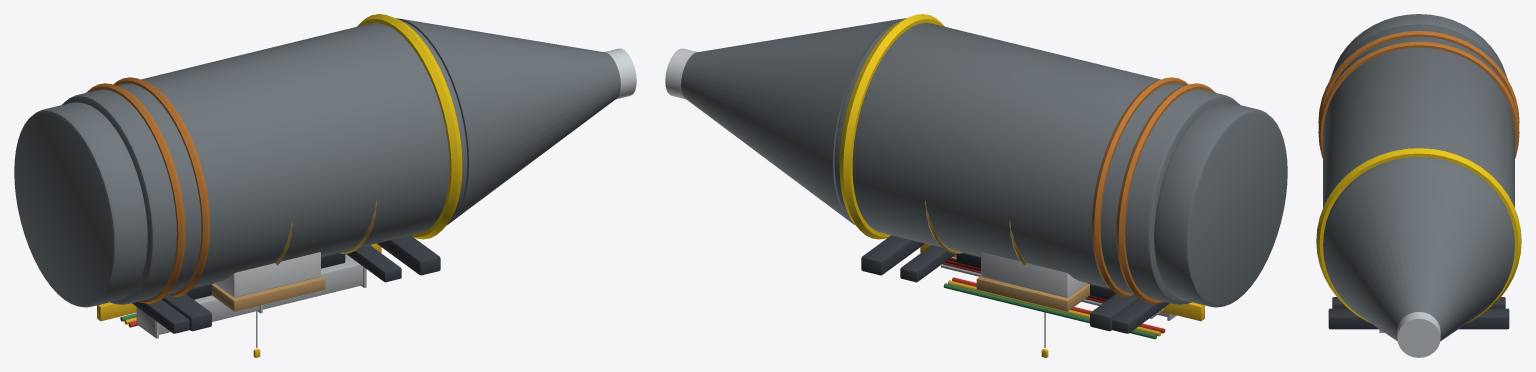
The model's file is equip.glb.
The picture shows the model from 3 angles, left to right: view 1: azimuth 30°, elevation 25°; view 2: azimuth 150°, elevation 25°; view 3: azimuth 270°, elevation 25°; orthographic projection. The views are drawn at different scales.
Visible parts, largest first — view 1: projectile, spare_shoe, hvac_duct, charge, crane_hoist, gen_emerg; view 2: projectile, spare_shoe, charge, hvac_duct, crane_hoist, gen_emerg; view 3: projectile, charge.
Part boxes in pixels (left/top/right/bottom): projectile: left=14, top=14, right=636, bottom=331; spare_shoe: left=212, top=252, right=325, bottom=311; hvac_duct: left=120, top=254, right=366, bottom=338; charge: left=132, top=200, right=401, bottom=333; crane_hoist: left=97, top=243, right=381, bottom=357; gen_emerg: left=186, top=253, right=345, bottom=299; projectile: left=665, top=14, right=1287, bottom=331; spare_shoe: left=976, top=252, right=1089, bottom=311; charge: left=900, top=200, right=1169, bottom=333; hvac_duct: left=941, top=256, right=1176, bottom=339; crane_hoist: left=920, top=243, right=1204, bottom=357; gen_emerg: left=956, top=253, right=1115, bottom=299; projectile: left=1316, top=14, right=1521, bottom=357; charge: left=1332, top=297, right=1505, bottom=308.
Size of the model in its own units: 15.95 by 8.14 by 5.68.
